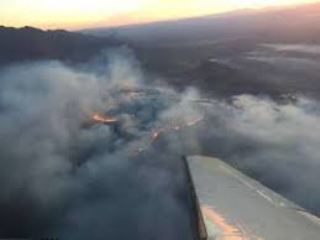fire: (93, 112, 118, 124), (151, 129, 163, 140)
smoke: (12, 136, 186, 233), (110, 56, 256, 128), (20, 53, 107, 112)
